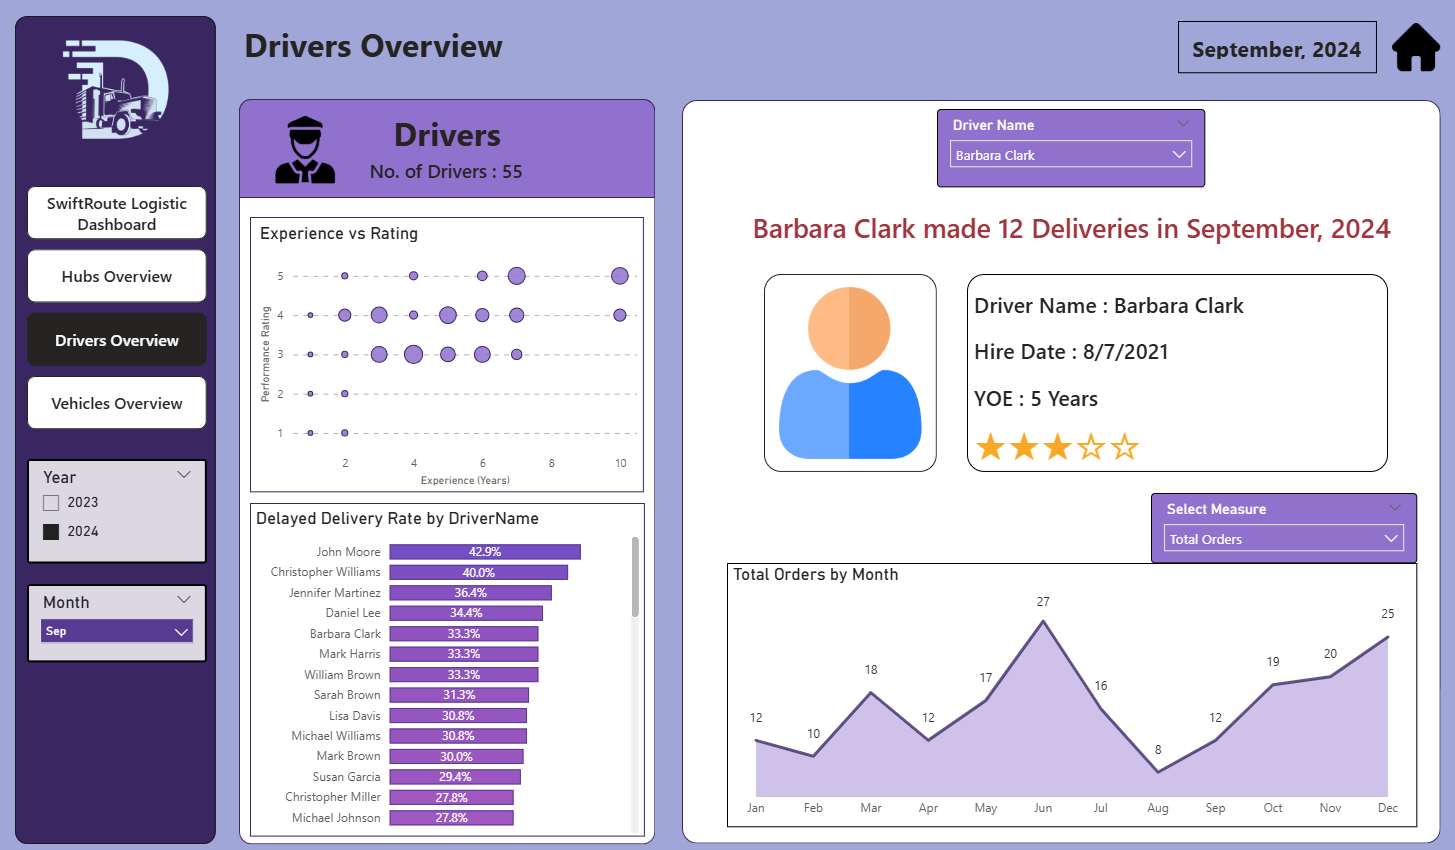

The page's visual inventory and layout, read from the dashboard file:
{"tool":"powerbi","page":{"name":"Drivers Overview","canvas":[1450,850],"ordinal":2},"visuals":[{"type":"shape","box":[16.2,16.2,199.9,823.9],"z":0},{"type":"shape","box":[238.9,99.4,414.3,741.7],"z":0,"group":"g1"},{"type":"shape","box":[680,100,755,740],"z":0,"group":"g2"},{"type":"textbox","box":[239.2,16.5,727.8,58.8],"z":1000},{"type":"shape","box":[239,98.9,414.3,98.6],"z":1000,"group":"g1"},{"type":"cardVisual","fields":{"Data":["_Measure.Year Month Title"]},"box":[1173.2,20.6,197.9,51.5],"z":2000},{"type":"textbox","box":[239,105.7,414.4,56.7],"z":2000,"group":"g1"},{"type":"group","id":"g1","title":"Section drivers","box":[238.9,98.9,414.6,742.2],"z":3000},{"type":"image","box":[28.6,28.6,177.1,128.6],"z":4000},{"type":"slicer","fields":{"Values":["Date Table.Year"]},"box":[27.8,456.7,179.4,104.1],"z":5000},{"type":"slicer","fields":{"Values":["Date Table.Month Short"]},"box":[27.8,581.4,179.4,78.4],"z":6000},{"type":"image","box":[1386.6,20.6,48.5,51.5],"z":7000},{"type":"group","id":"g2","title":"Section Driver Details","box":[680,100,755,740],"z":8000},{"type":"pageNavigator","box":[27.8,185.6,179.4,242.3],"z":9000},{"type":"image","box":[265.4,115.6,77.7,66.6],"z":9001},{"type":"slicer","fields":{"Values":["Drivers.DriverName"]},"box":[934,109.3,267,78.4],"z":14500,"group":"g2"},{"type":"cardVisual","fields":{"Data":["_Measure.Drivers Tiltle"]},"box":[714.4,197.9,706.2,51.5],"z":15000,"group":"g2"},{"type":"cardVisual","fields":{"Data":["_Measure.Driver Name","_Measure.Hire Date","_Measure.YOE","_Measure.Star Rating"]},"box":[963.9,273.2,418.6,196.9],"z":15500,"group":"g2"},{"type":"image","box":[761.9,273.2,172.2,196.9],"z":16000,"group":"g2"},{"type":"areaChart","fields":{"Y":["_Measure.Total Orders"],"Category":["Date Table.Month Short"]},"box":[724.7,560.8,686.6,262.9],"z":16500,"group":"g2"},{"type":"slicer","fields":{"Values":["Select Measure.Select Measure"]},"box":[1146.4,490.7,264.9,70.1],"z":17000,"group":"g2"},{"type":"cardVisual","fields":{"Data":["_Measure.No. of Drivers"]},"box":[241.2,146.8,408.9,44.4],"z":21501,"group":"g1"},{"type":"scatterChart","title":"Experience vs Rating","fields":{"X":["Drivers.Experience Years"],"Y":["Drivers.Performance Rating"],"Size":["Sum(Drivers.Experience Years)1"]},"box":[250.1,216.3,392.2,274.4],"z":22001,"group":"g1"},{"type":"barChart","fields":{"Y":["_Measure.Delayed Delivery Rate"],"Category":["Drivers.DriverName"]},"box":[250.1,500.8,393.3,332.2],"z":22501,"group":"g1"}]}

Visuals, with their boxes in screenshot pixels (x1, y1, x2, y2), scaled from the page's 1450x850 canvas onto the 1455x850 screenshot:
shape: (left=16, top=16, right=217, bottom=840)
shape: (left=240, top=99, right=655, bottom=841)
shape: (left=682, top=100, right=1440, bottom=840)
textbox: (left=240, top=16, right=970, bottom=75)
shape: (left=240, top=99, right=656, bottom=198)
cardVisual - _Measure.Year Month Title: (left=1177, top=21, right=1376, bottom=72)
textbox: (left=240, top=106, right=656, bottom=162)
"Section drivers" group: (left=240, top=99, right=656, bottom=841)
image: (left=29, top=29, right=206, bottom=157)
slicer - Date Table.Year: (left=28, top=457, right=208, bottom=561)
slicer - Date Table.Month Short: (left=28, top=581, right=208, bottom=660)
image: (left=1391, top=21, right=1440, bottom=72)
"Section Driver Details" group: (left=682, top=100, right=1440, bottom=840)
pageNavigator: (left=28, top=186, right=208, bottom=428)
image: (left=266, top=116, right=344, bottom=182)
slicer - Drivers.DriverName: (left=937, top=109, right=1205, bottom=188)
cardVisual - _Measure.Drivers Tiltle: (left=717, top=198, right=1425, bottom=249)
cardVisual - _Measure.Driver Name x _Measure.Hire Date: (left=967, top=273, right=1387, bottom=470)
image: (left=765, top=273, right=937, bottom=470)
areaChart - _Measure.Total Orders x Date Table.Month Short: (left=727, top=561, right=1416, bottom=824)
slicer - Select Measure.Select Measure: (left=1150, top=491, right=1416, bottom=561)
cardVisual - _Measure.No. of Drivers: (left=242, top=147, right=652, bottom=191)
"Experience vs Rating" scatterChart: (left=251, top=216, right=645, bottom=491)
barChart - _Measure.Delayed Delivery Rate x Drivers.DriverName: (left=251, top=501, right=646, bottom=833)
